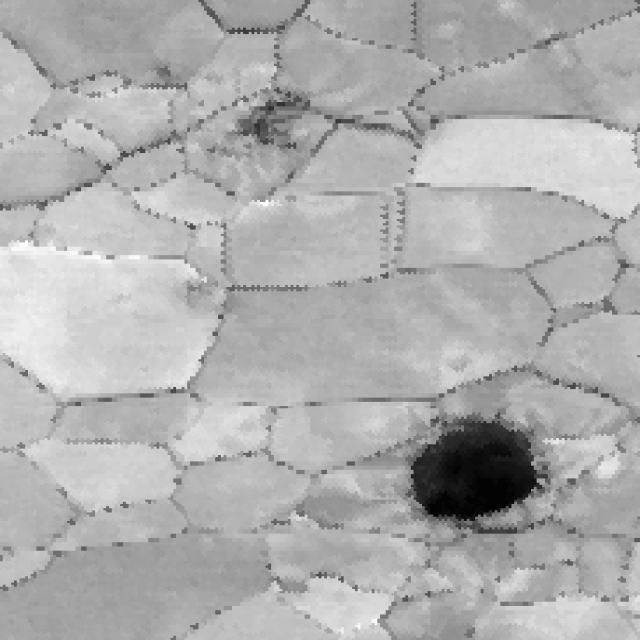good_void: (392, 411, 559, 526), (200, 95, 310, 170), (178, 274, 241, 318), (155, 60, 183, 81), (291, 504, 315, 521)
